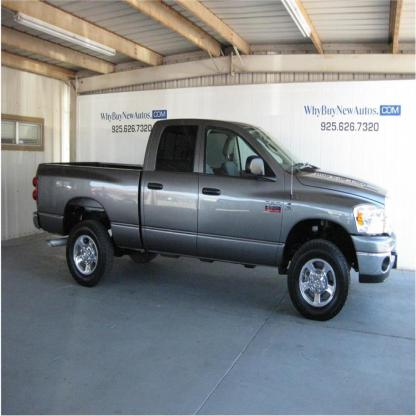Vehicle: (32, 117, 400, 324)
